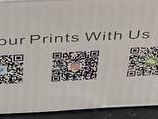2d: (50, 50, 100, 84)
